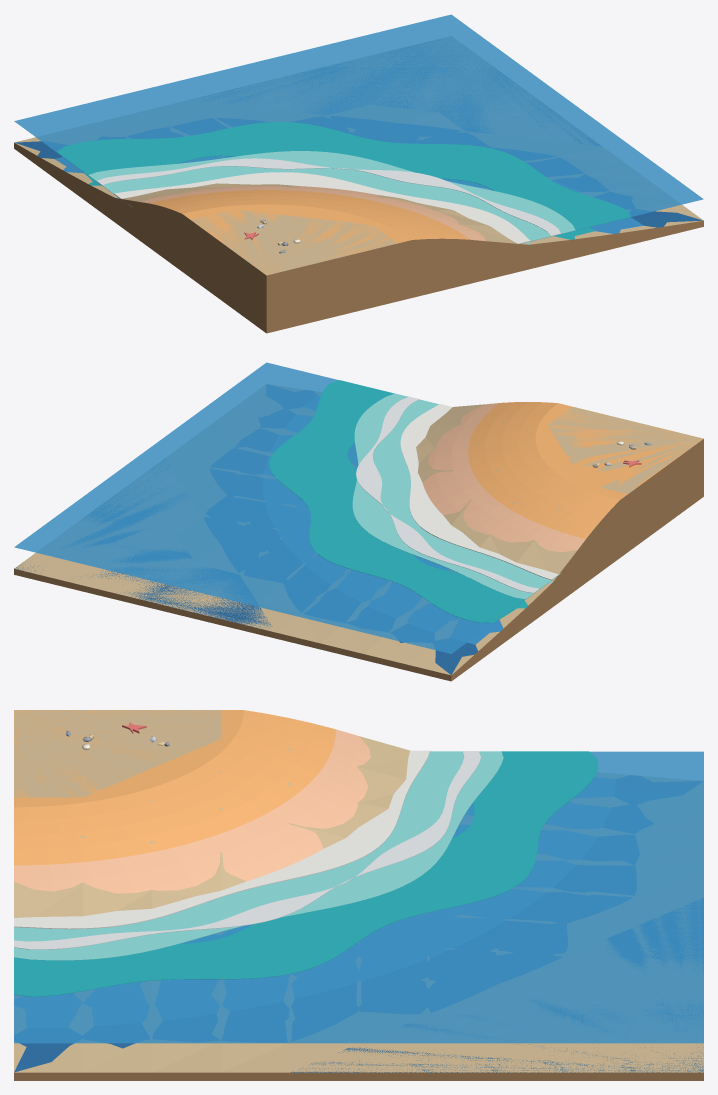
The model's file is costa_areia_canto_ext.glb.
The picture shows the model from 3 angles, top to bottom: view 1: azimuth 30°, elevation 25°; view 2: azimuth 150°, elevation 25°; view 3: azimuth 270°, elevation 25°; orthographic projection. The views are drawn at different scales.
Parts seen in each view (by area): view 1: costa_areia_canto_ext, colisao_praia; view 2: costa_areia_canto_ext, colisao_praia; view 3: costa_areia_canto_ext, colisao_praia.
Part boxes in pixels (left/top/right/bottom): costa_areia_canto_ext: left=14, top=14, right=703, bottom=332; colisao_praia: left=14, top=137, right=703, bottom=333; costa_areia_canto_ext: left=14, top=362, right=703, bottom=681; colisao_praia: left=14, top=404, right=703, bottom=681; costa_areia_canto_ext: left=14, top=710, right=703, bottom=1080; colisao_praia: left=14, top=710, right=703, bottom=1080.
Bounding box in the file's own units: 15 × 1.99 × 15.
2 materials, 1 textured.
